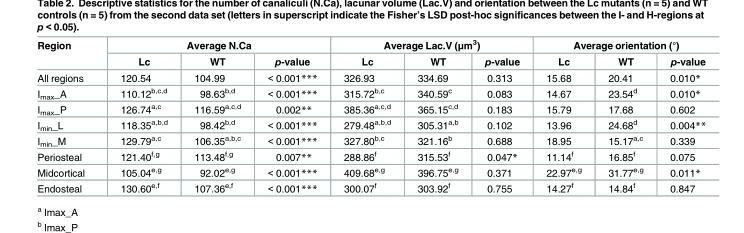table: (36, 37, 705, 193)
table column: (101, 37, 180, 193), (253, 37, 329, 193), (329, 37, 403, 193), (180, 37, 253, 193), (403, 37, 470, 193), (36, 37, 101, 193), (470, 37, 532, 193), (532, 37, 594, 193), (594, 37, 655, 193), (655, 37, 705, 193)
table column header: (36, 37, 705, 69)
table row: (36, 52, 705, 69), (36, 84, 705, 100), (36, 100, 705, 116), (36, 116, 705, 132), (36, 132, 705, 148), (36, 163, 705, 179), (36, 37, 705, 52), (36, 69, 705, 84), (36, 148, 705, 163), (36, 179, 705, 193)
table spanning cell: (101, 37, 329, 52), (329, 37, 532, 52), (532, 37, 705, 52), (36, 37, 101, 69)
